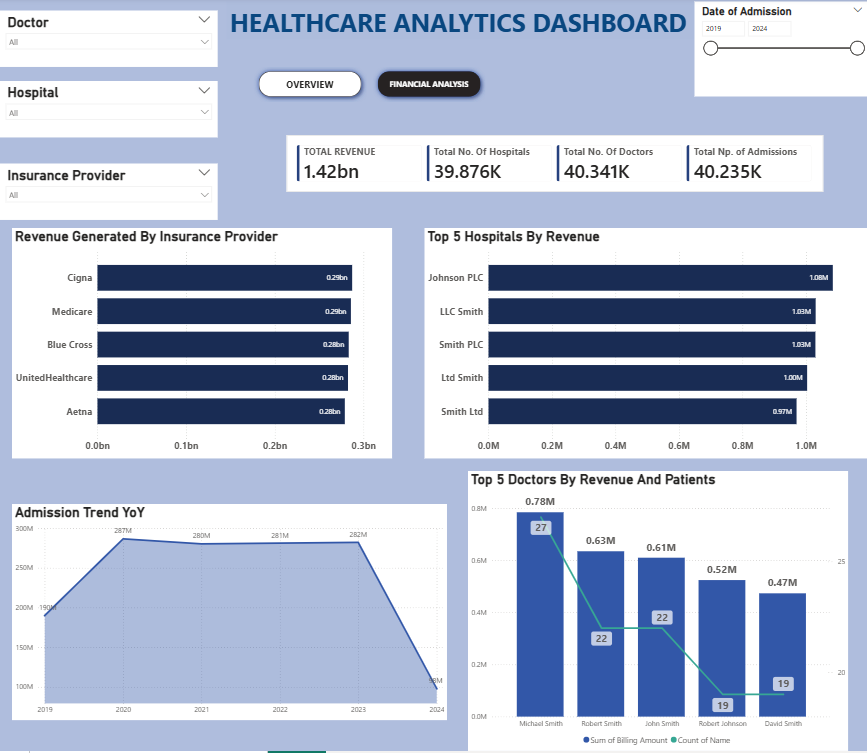

This screenshot's page, from the dashboard's own definition file:
{"tool":"powerbi","page":{"name":"FINANCIAL ANALYSIS","canvas":[1500,1300],"ordinal":1},"visuals":[{"type":"cardVisual","fields":{"Data":["Sum(healthcare_dataset.Billing Amount)","Count(healthcare_dataset.Hospital)","Count(healthcare_dataset.Doctor)","Count(healthcare_dataset.Name)"]},"box":[495,237.5,925,97.5],"z":0},{"type":"barChart","title":"Revenue Generated By Insurance Provider","fields":{"Y":["Sum(healthcare_dataset.Billing Amount)"],"Category":["healthcare_dataset.Insurance Provider"]},"box":[20,397.5,655,397.5],"z":1000},{"type":"lineStackedColumnComboChart","title":"Top 5 Doctors By Revenue And Patients","fields":{"Category":["healthcare_dataset.Doctor"],"Y":["Sum(healthcare_dataset.Billing Amount)"],"Y2":["CountNonNull(healthcare_dataset.Name)"]},"box":[807.5,817.5,655,482.5],"z":2000},{"type":"lineChart","title":"Admission Trend YoY","fields":{"Category":["healthcare_dataset.Date of Admission"],"Y":["Sum(healthcare_dataset.Billing Amount)"]},"box":[20,875,750,372.5],"z":3000},{"type":"slicer","fields":{"Values":["healthcare_dataset.Doctor"]},"box":[0,22.5,375,97.5],"z":4000},{"type":"slicer","fields":{"Values":["healthcare_dataset.Hospital"]},"box":[0,145,375,97.5],"z":5000},{"type":"slicer","fields":{"Values":["healthcare_dataset.Insurance Provider"]},"box":[0,287.5,375,97.5],"z":6000},{"type":"pageNavigator","box":[437.5,120,400,62.5],"z":7000},{"type":"textbox","box":[390,7.5,895,65],"z":8000},{"type":"barChart","title":"Top 5 Hospitals By Revenue","fields":{"Y":["Sum(healthcare_dataset.Billing Amount)"],"Category":["healthcare_dataset.Hospital"]},"box":[732.5,397.5,767.5,397.5],"z":9000},{"type":"slicer","fields":{"Values":["healthcare_dataset.Date of Admission"]},"box":[1197.5,7.5,302.5,162.5],"z":9001}]}

Visuals, with their boxes in screenshot pixels (x1, y1, x2, y2), scaled from the page's 1500x1300 canvas onto the 867x753 screenshot:
cardVisual - Sum(healthcare_dataset.Billing Amount) x Count(healthcare_dataset.Hospital): 286,138,821,194
"Revenue Generated By Insurance Provider" barChart: 12,230,390,460
"Top 5 Doctors By Revenue And Patients" lineStackedColumnComboChart: 467,474,845,752
"Admission Trend YoY" lineChart: 12,507,445,723
slicer - healthcare_dataset.Doctor: 0,13,217,70
slicer - healthcare_dataset.Hospital: 0,84,217,140
slicer - healthcare_dataset.Insurance Provider: 0,167,217,223
pageNavigator: 253,70,484,106
textbox: 225,4,743,42
"Top 5 Hospitals By Revenue" barChart: 423,230,866,460
slicer - healthcare_dataset.Date of Admission: 692,4,866,98
